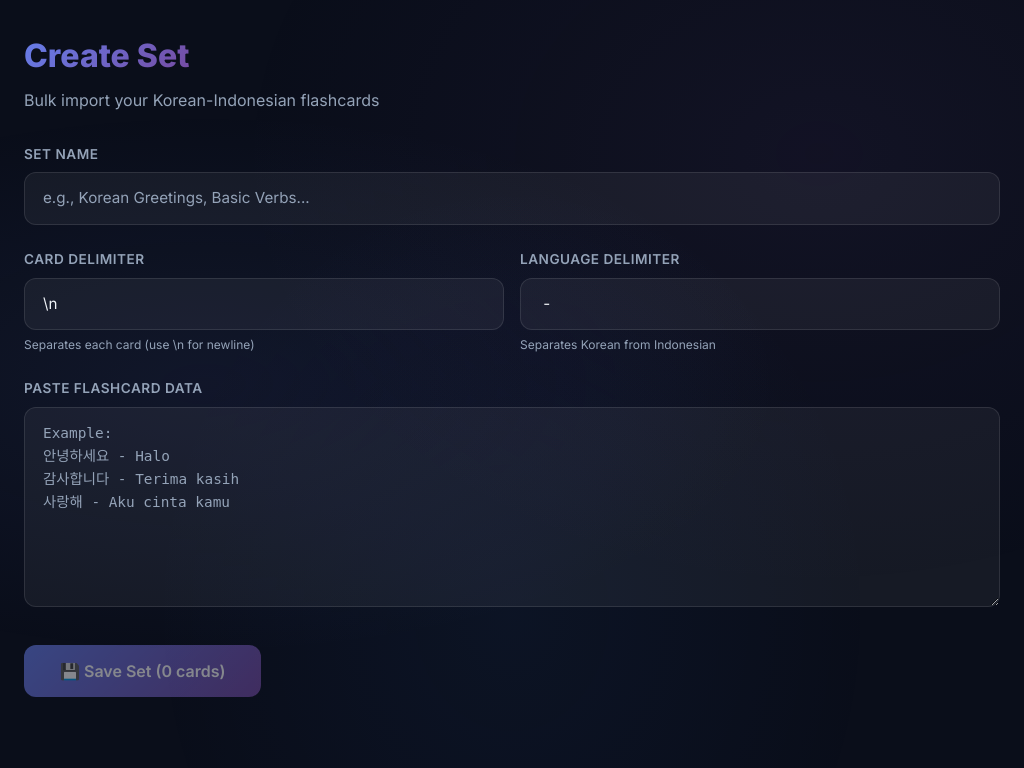
Test: CreateSet › live preview shows invalid card count when front has no back
// Only front side — missing back, so invalid
Type "안녕하세요" into the text box.
click(512, 507); type("안녕하세요")  # box [24,407,1000,607]
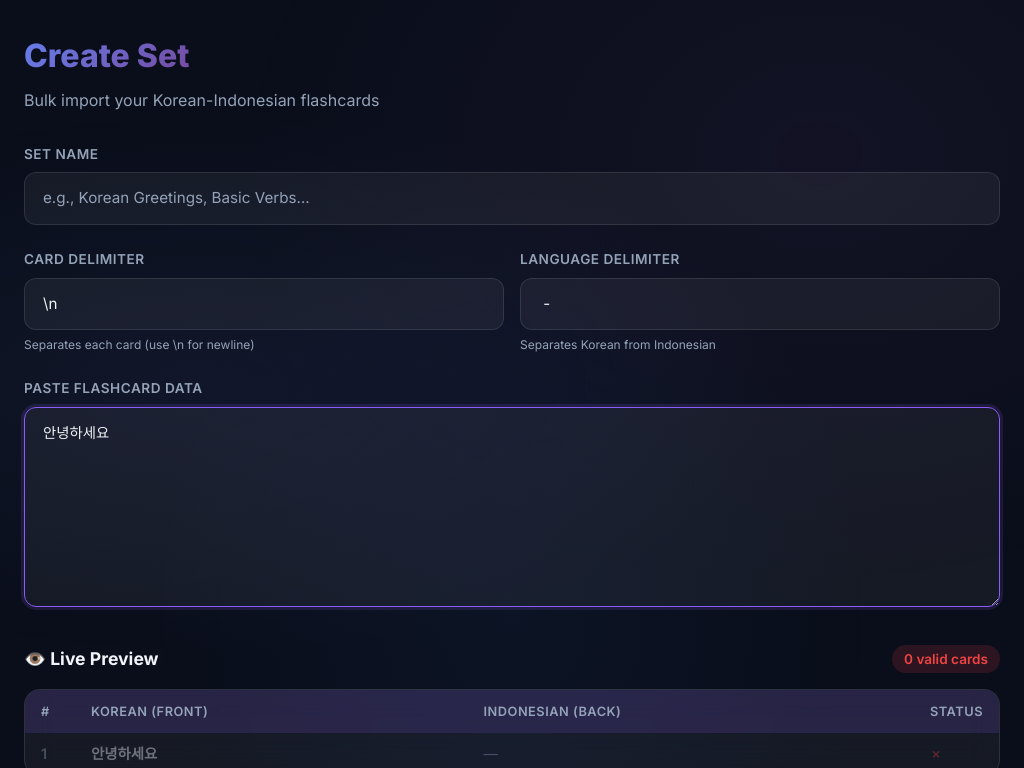
Expected: the text "0 valid cards" is shown, [892,645,1000,673]
